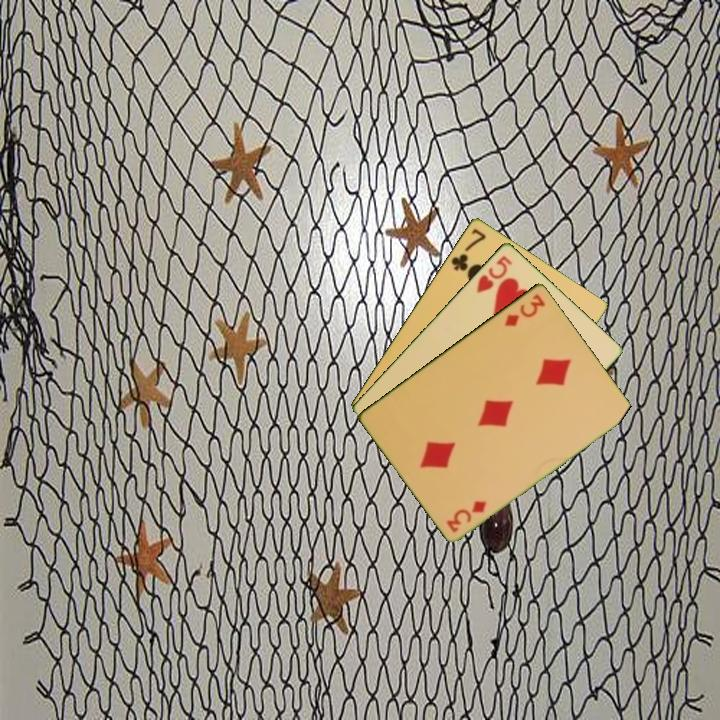3d: (501, 290, 548, 329), (443, 496, 490, 535)
5h: (473, 252, 515, 295)
7c: (447, 225, 489, 274)
